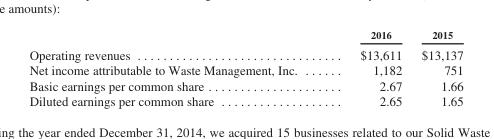table: (28, 28, 462, 108)
table column: (28, 28, 328, 108), (328, 28, 411, 108), (411, 28, 462, 108)
table column header: (28, 28, 462, 43)
table row: (28, 43, 462, 62), (28, 77, 462, 93), (28, 28, 462, 43), (28, 62, 462, 77), (28, 93, 462, 108)
